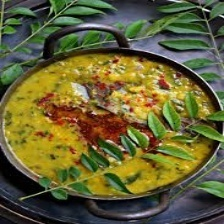dal: (1, 48, 224, 197)
